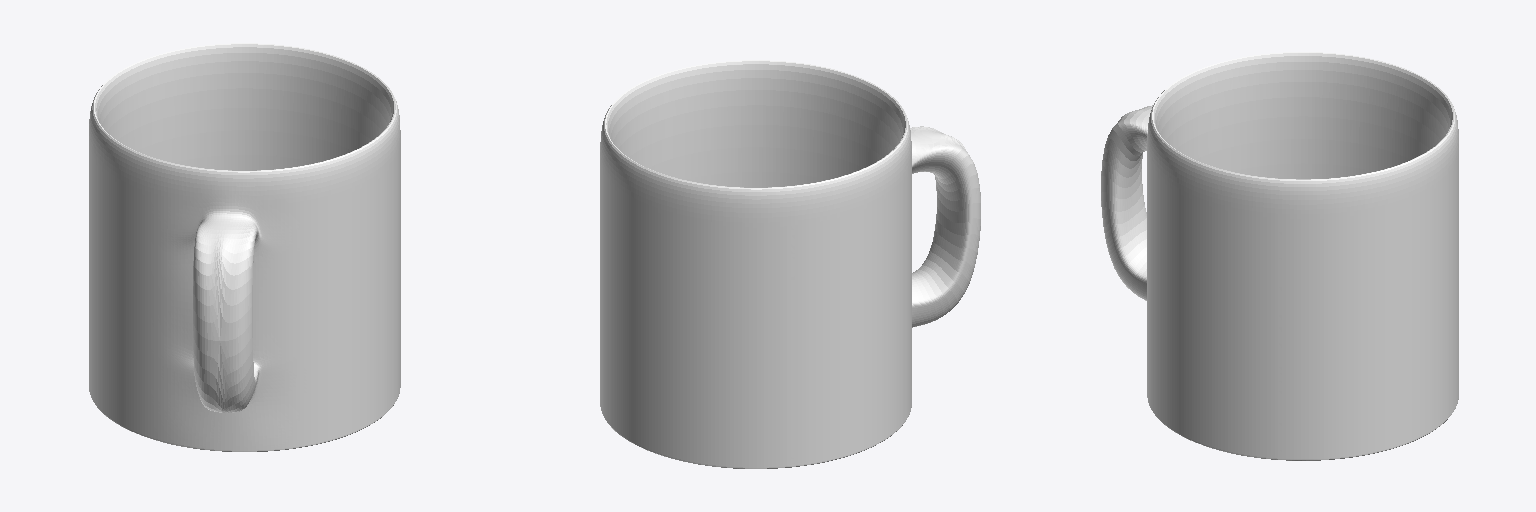
File: teamugblend.obj
The picture shows the model from 3 angles: view 1: azimuth 30°, elevation 25°; view 2: azimuth 150°, elevation 25°; view 3: azimuth 270°, elevation 25°; orthographic projection.
Visible parts, largest first — view 1: tea_mug; view 2: tea_mug; view 3: tea_mug.
Boxes of the visible parts, x1,y1,x2,y2 form: tea_mug: [89, 43, 400, 451]; tea_mug: [600, 60, 980, 468]; tea_mug: [1101, 52, 1458, 460].
Size of the model in its own units: 1.99 by 1.97 by 2.28.